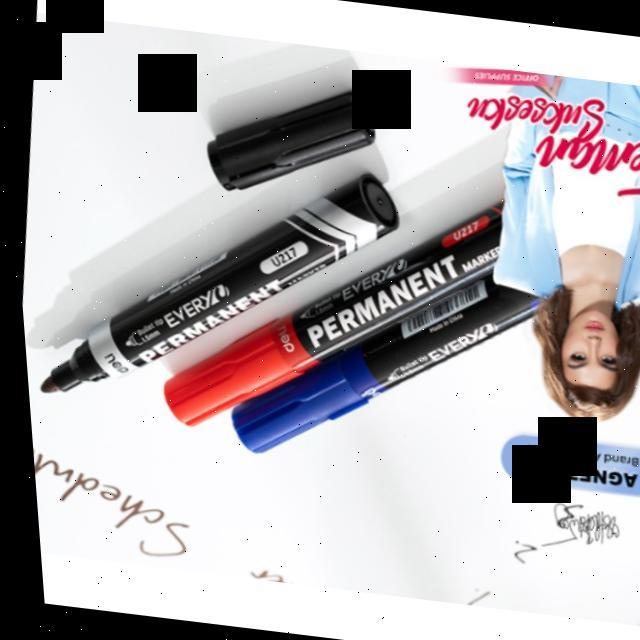marker: (42, 175, 397, 398)
